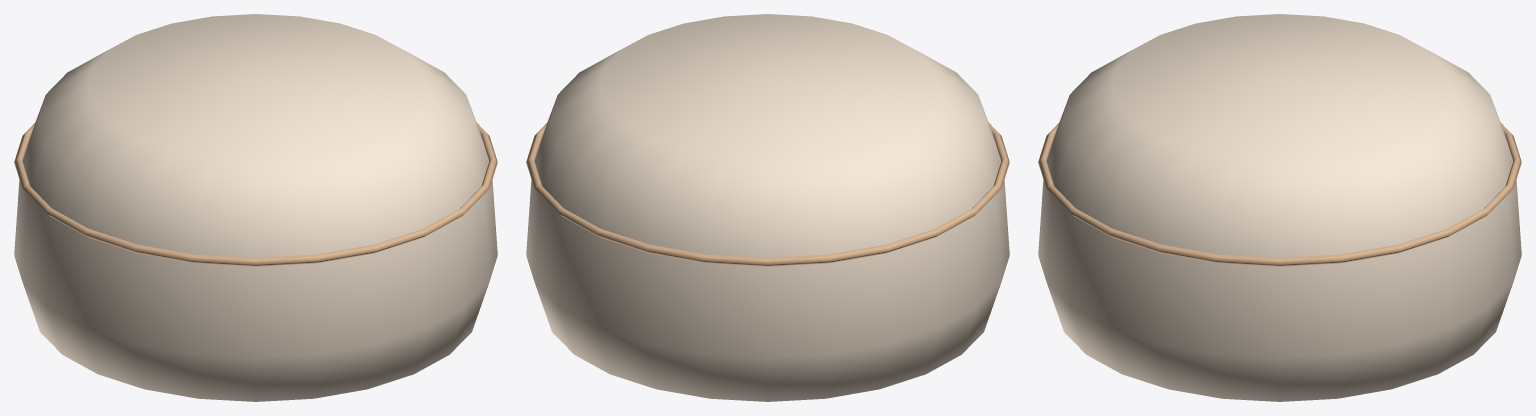
The model's file is pouf.glb.
3 views of the same model, side by side, from view 1: azimuth 30°, elevation 25°; view 2: azimuth 150°, elevation 25°; view 3: azimuth 270°, elevation 25° (orthographic).
Parts seen in each view (by area): view 1: pouf_upholstery, pouf_piping; view 2: pouf_upholstery, pouf_piping; view 3: pouf_upholstery, pouf_piping.
Part boxes in pixels (<box>): pouf_upholstery: <box>14,14,497,401</box>; pouf_piping: <box>14,123,497,266</box>; pouf_upholstery: <box>526,14,1009,401</box>; pouf_piping: <box>526,123,1009,266</box>; pouf_upholstery: <box>1038,14,1521,401</box>; pouf_piping: <box>1038,123,1521,266</box>.
Size of the model in its own units: 0.8 by 0.45 by 0.8.
